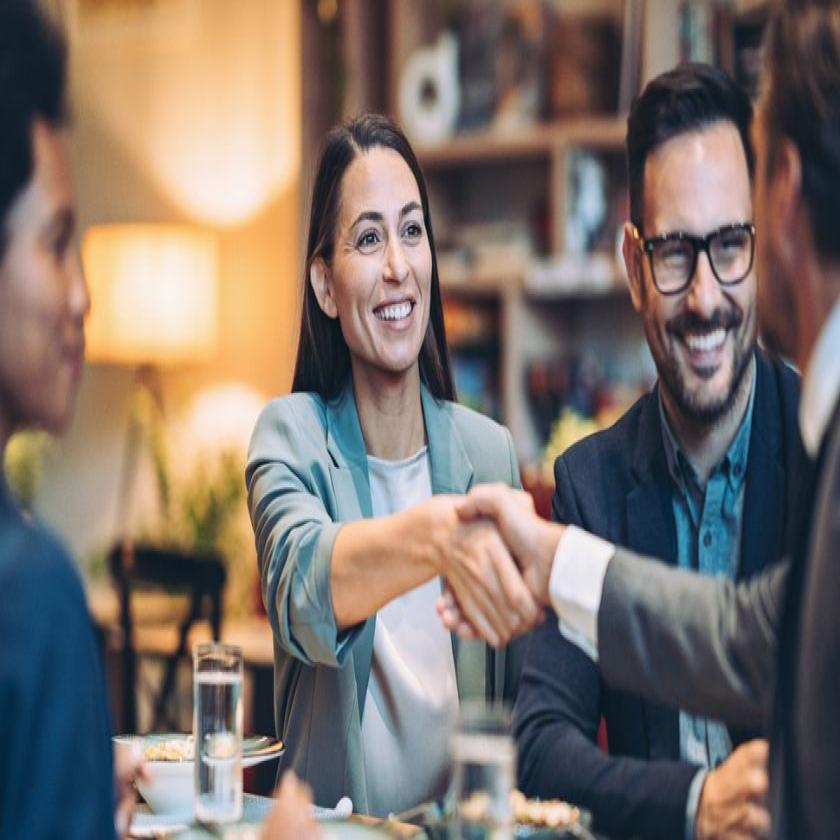Sin_casco: (610, 46, 764, 421), (0, 0, 100, 454), (308, 107, 447, 396)
